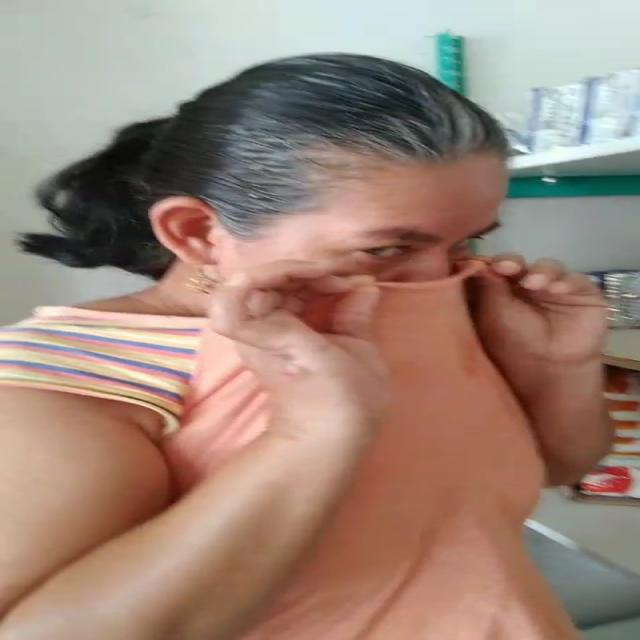8_ropa_rostro: (195, 269, 576, 405)
